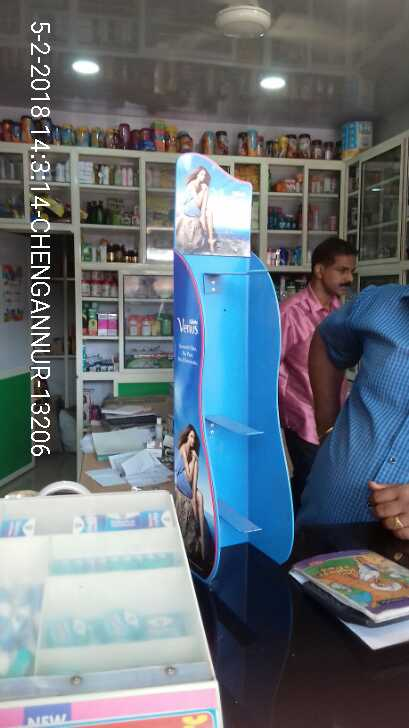reject: (148, 302, 261, 359)
